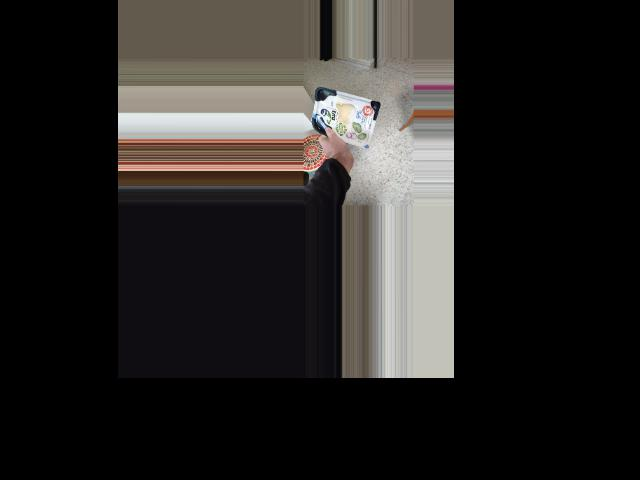cheese: (310, 86, 376, 148)
